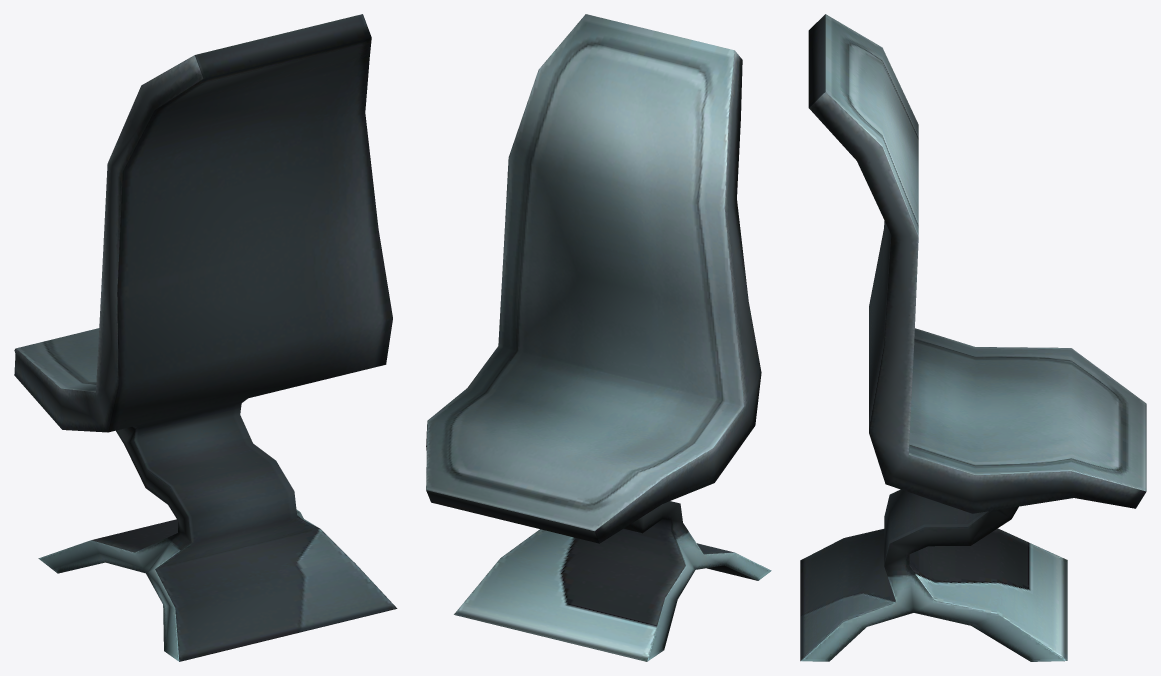
3 views of the same model, side by side, from view 1: azimuth 30°, elevation 25°; view 2: azimuth 150°, elevation 25°; view 3: azimuth 270°, elevation 25° (orthographic). The views are drawn at different scales.
Parts seen in each view (by area): view 1: stuhl1; view 2: stuhl1; view 3: stuhl1.
Boxes of the visible parts, x1,y1,x2,y2 form: stuhl1: (14,14,397,661); stuhl1: (426,14,771,661); stuhl1: (800,14,1146,661).
Bounding box in the file's own units: 30.16 × 61.28 × 34.32.
1 material, 1 textured.
